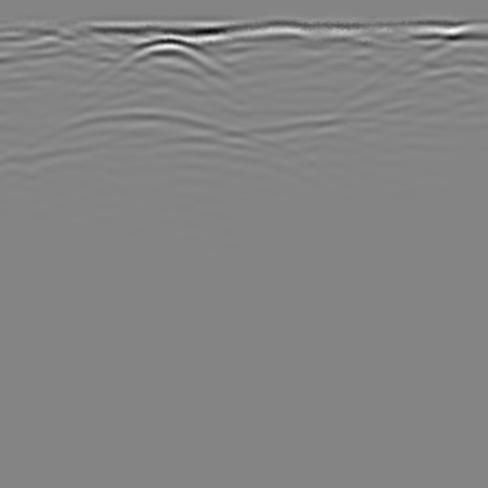hyperbola: (10, 94, 296, 218)
